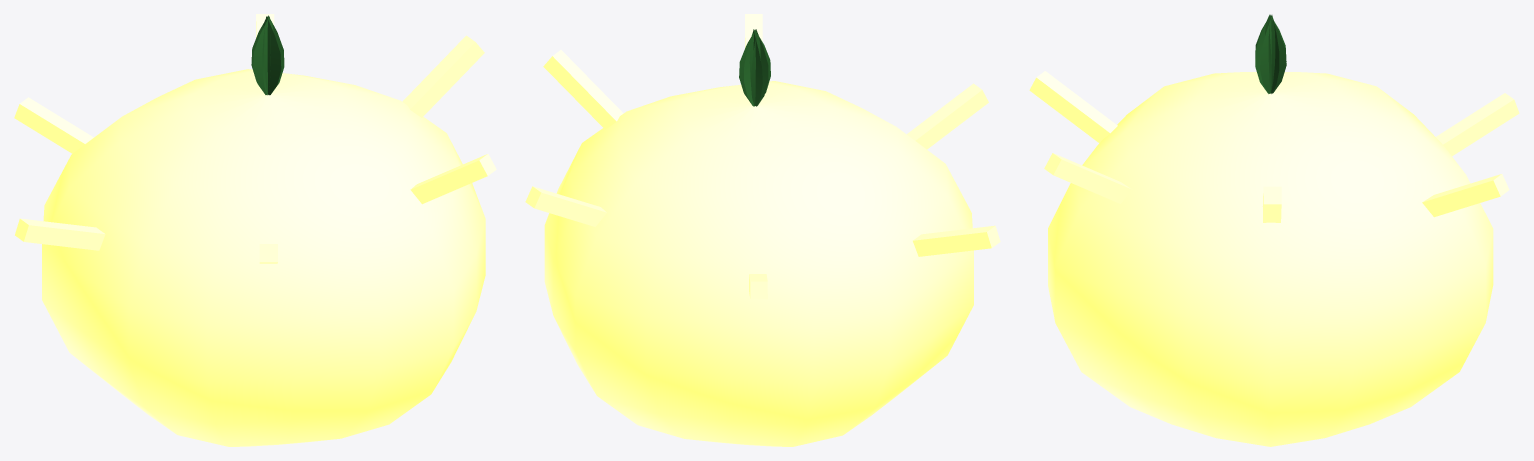
File: fruit-tomato-shocked.gltf
The picture shows the model from 3 angles, left to right: view 1: azimuth 30°, elevation 25°; view 2: azimuth 150°, elevation 25°; view 3: azimuth 270°, elevation 25°; orthographic projection. The views are drawn at different scales.
Size of the model in its own units: 0.47 by 0.3964 by 0.4337.
